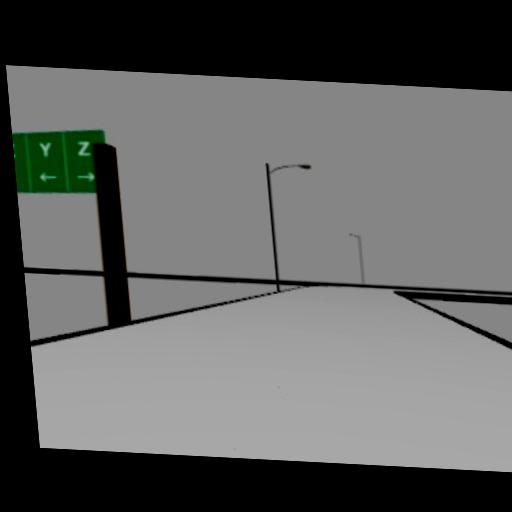Left: (37, 170, 57, 182)
Right: (76, 170, 95, 181)
X: (13, 141, 17, 157)
Y: (38, 139, 52, 156)
Z: (75, 138, 90, 155)
